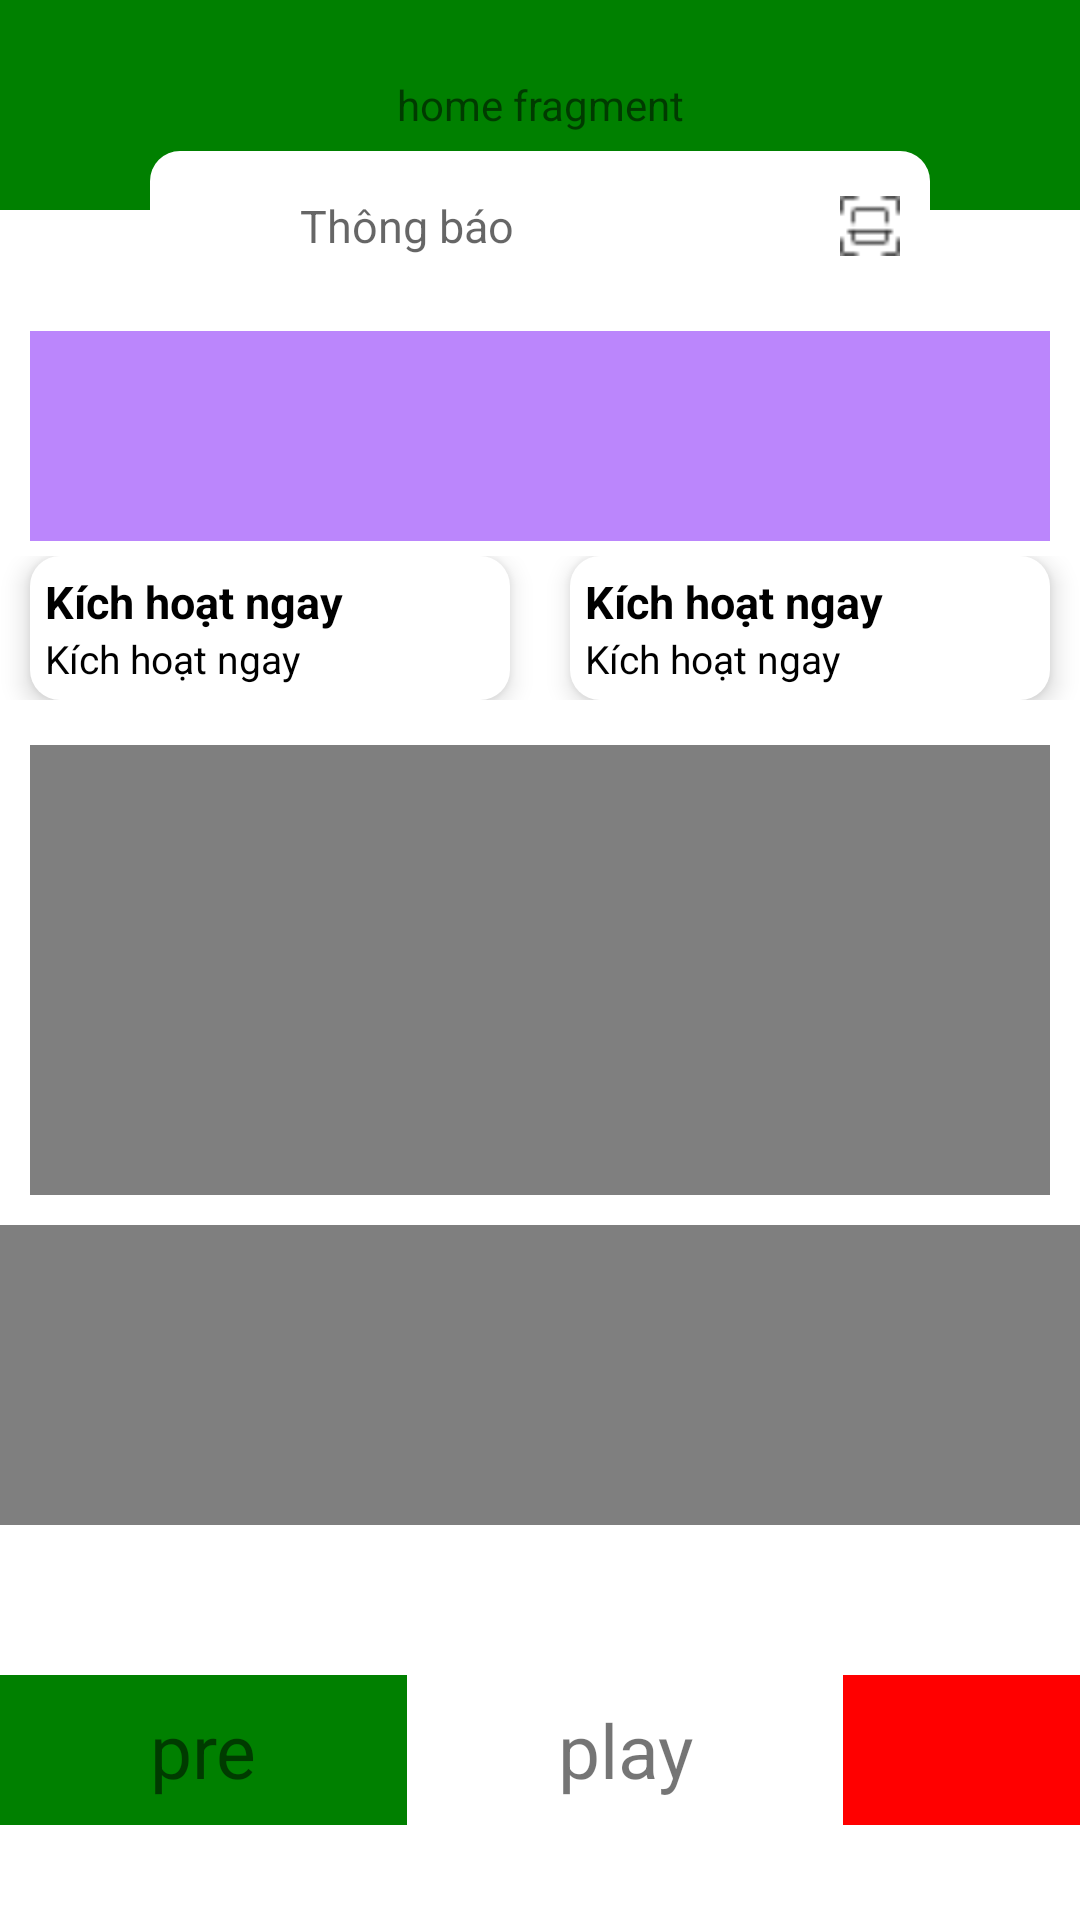

Screen size 1080 x 1920. Icon name, then its box in pixels as (x1, y1, x2, y2):
scanner: (840, 196, 900, 256)
